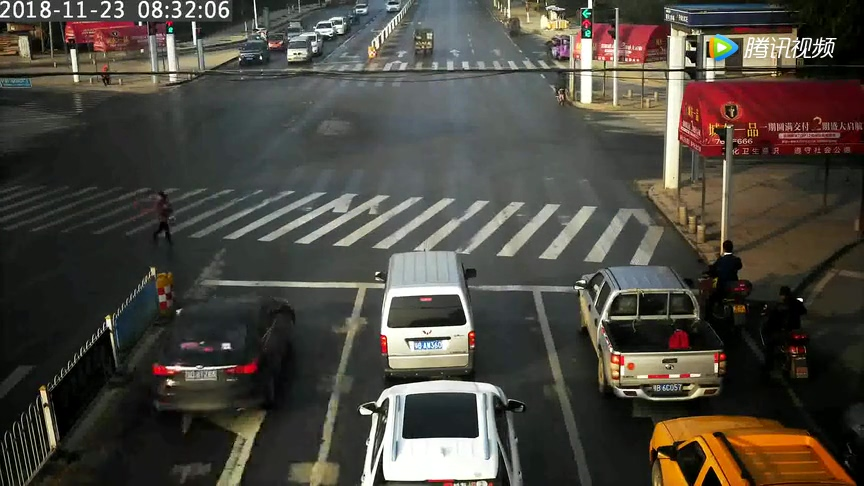car: (550, 252, 744, 423), (329, 374, 540, 486), (359, 231, 503, 389), (129, 290, 308, 413), (273, 30, 320, 72), (226, 34, 271, 69), (409, 23, 444, 65)
person: (692, 234, 754, 337), (144, 183, 182, 256), (546, 66, 570, 118), (90, 57, 117, 94)
